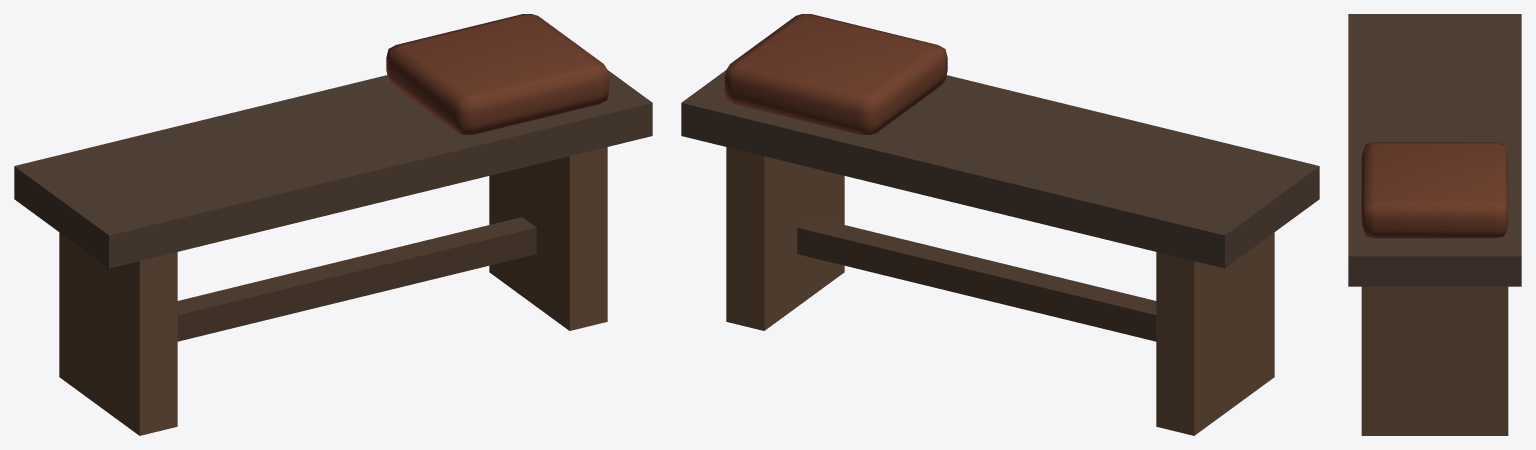
The model's file is bench.glb.
3 views of the same model, side by side, from view 1: azimuth 30°, elevation 25°; view 2: azimuth 150°, elevation 25°; view 3: azimuth 270°, elevation 25° (orthographic). The views are drawn at different scales.
Visible parts, largest first — view 1: bench; view 2: bench; view 3: bench.
Boxes of the visible parts, x1,y1,x2,y2 form: bench: (14, 14, 652, 435); bench: (681, 14, 1319, 435); bench: (1348, 14, 1521, 435).
Size of the model in its own units: 0.86 by 0.385 by 0.26.
